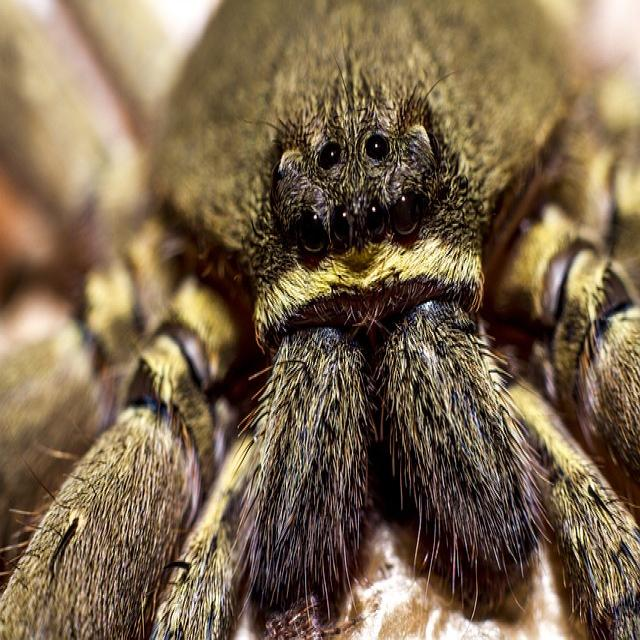spyder: (0, 4, 640, 638)
